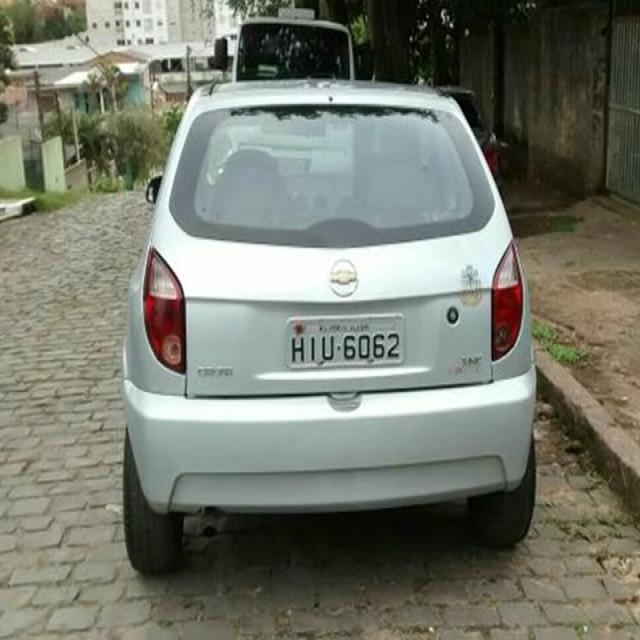Placa: (282, 315, 409, 371)
